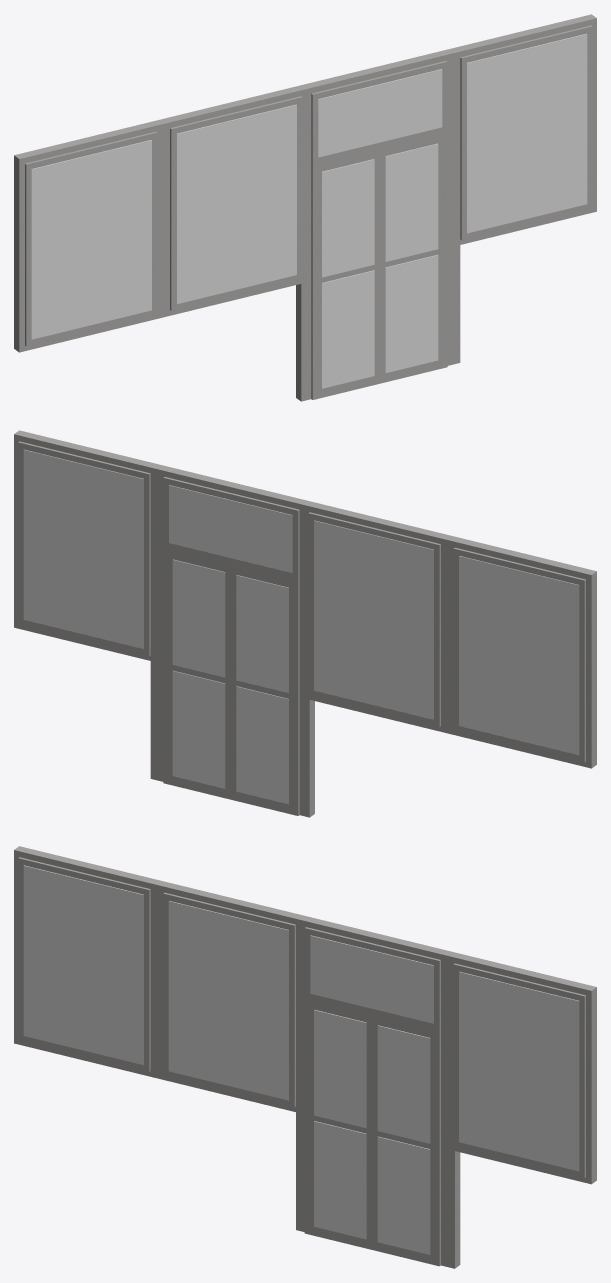
The model's file is windows_door.dae.
The picture shows the model from 3 angles, top to bottom: view 1: azimuth 30°, elevation 25°; view 2: azimuth 150°, elevation 25°; view 3: azimuth 330°, elevation 25°; orthographic projection.
Visible parts, largest first — view 1: windows_door, okna_s_dvermi_v2 v2; view 2: windows_door, okna_s_dvermi_v2 v2; view 3: windows_door, okna_s_dvermi_v2 v2.
Part boxes in pixels (box(x1,y1,x2,y2)): windows_door: box(31, 33, 587, 388); okna_s_dvermi_v2 v2: box(14, 14, 596, 401); windows_door: box(23, 449, 579, 804); okna_s_dvermi_v2 v2: box(14, 430, 596, 817); windows_door: box(23, 865, 579, 1254); okna_s_dvermi_v2 v2: box(14, 846, 596, 1268).
Bounding box in the file's own units: 6.25 × 0.151 × 3.22.
Materials: 2 (1 with a texture image).
